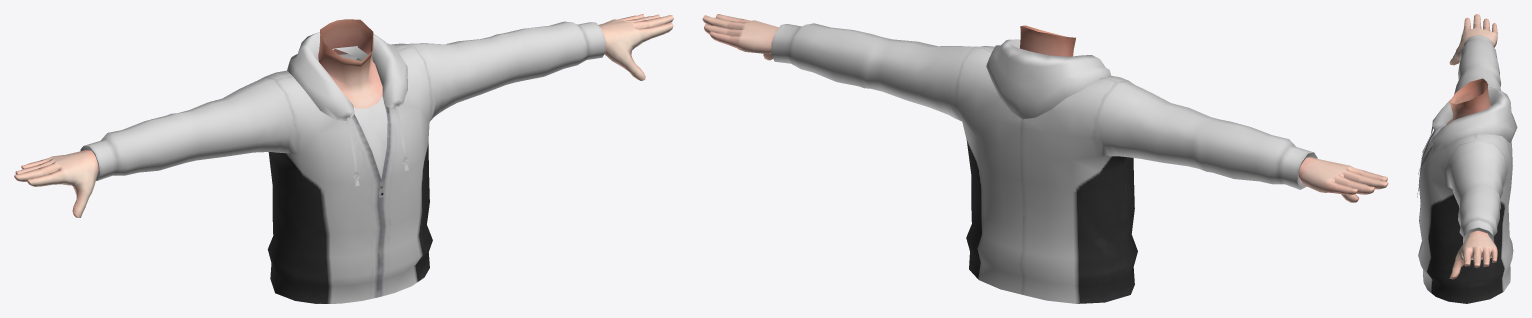
Rendered from tr0780_00_upb02.gltf.
3 renders of one model, left to right at view 1: azimuth 30°, elevation 25°; view 2: azimuth 150°, elevation 25°; view 3: azimuth 270°, elevation 25°, orthographic. The views are drawn at different scales.
Parts seen in each view (by area): view 1: upb02_upperbody_mesh_shape:upperbody02, upb02_upperskin_mesh_shape:upperbody02_skin; view 2: upb02_upperbody_mesh_shape:upperbody02, upb02_upperskin_mesh_shape:upperbody02_skin; view 3: upb02_upperbody_mesh_shape:upperbody02, upb02_upperskin_mesh_shape:upperbody02_skin.
Part boxes in pixels (x1=…): upb02_upperbody_mesh_shape:upperbody02: x1=80, y1=21, x2=605, y2=303; upb02_upperskin_mesh_shape:upperbody02_skin: x1=14, y1=14, x2=673, y2=217; upb02_upperbody_mesh_shape:upperbody02: x1=771, y1=23, x2=1317, y2=303; upb02_upperskin_mesh_shape:upperbody02_skin: x1=702, y1=14, x2=1388, y2=202; upb02_upperbody_mesh_shape:upperbody02: x1=1417, y1=34, x2=1517, y2=303; upb02_upperskin_mesh_shape:upperbody02_skin: x1=1445, y1=14, x2=1497, y2=279.
Size of what is drawn, in the model's own units: 1.63 by 0.5838 by 0.2755.
2 materials, 2 textured.
